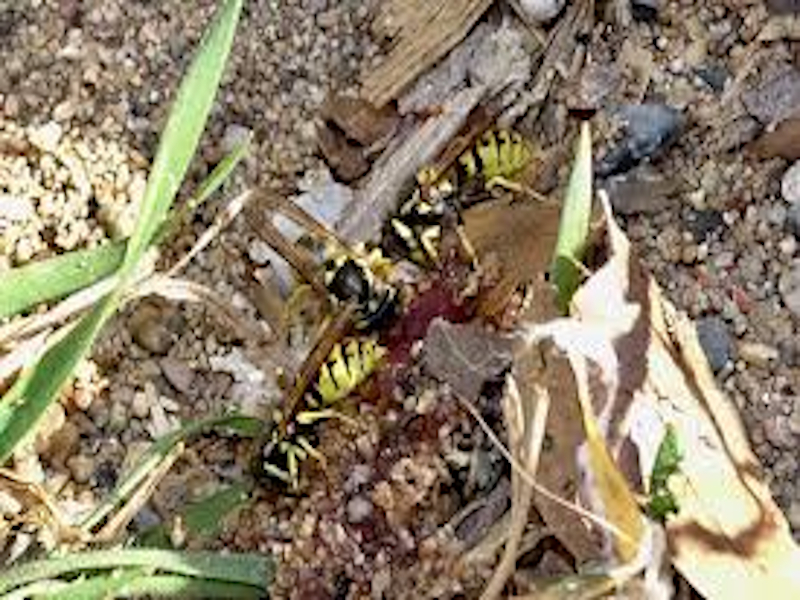chax: (396, 95, 558, 261), (239, 188, 431, 328), (228, 338, 397, 494)
